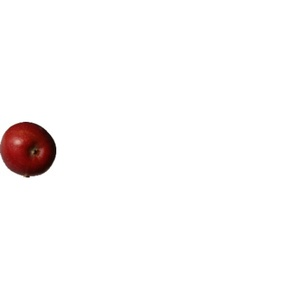maçã braeburn: (1, 119, 65, 180)
